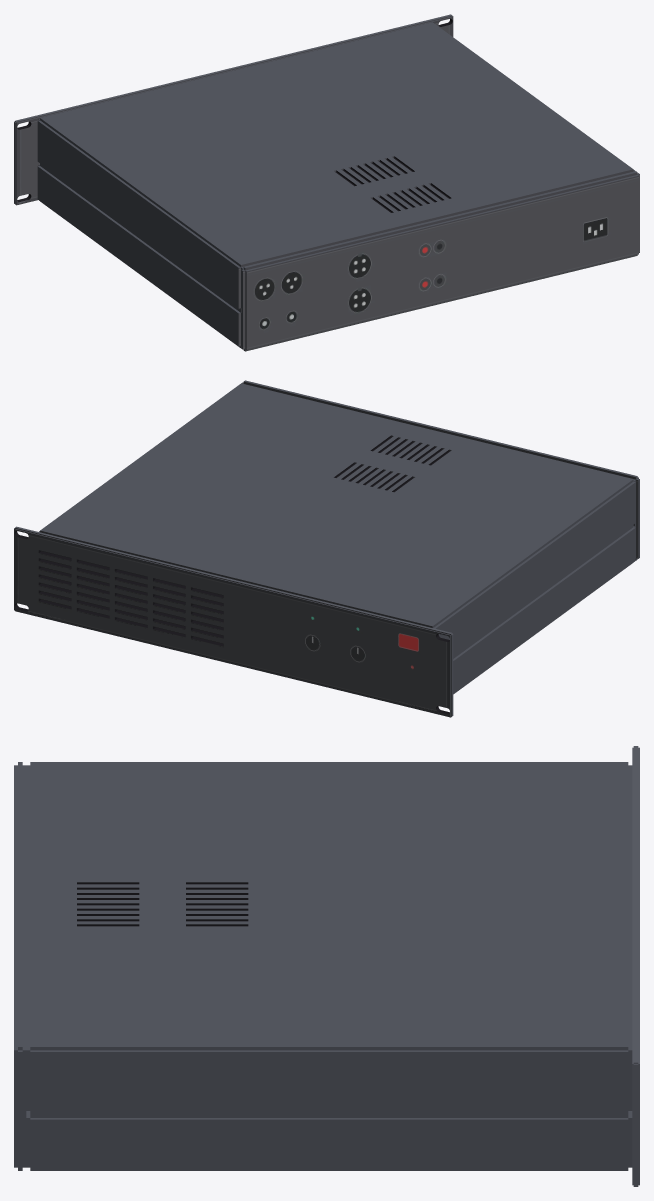
The model's file is behringer-europower-ep4000.glb.
The picture shows the model from 3 angles, top to bottom: view 1: azimuth 30°, elevation 25°; view 2: azimuth 150°, elevation 25°; view 3: azimuth 270°, elevation 25°; orthographic projection. The views are drawn at different scales.
Parts seen in each view (by area): view 1: behringer-europower-ep4000-body; view 2: behringer-europower-ep4000-body; view 3: behringer-europower-ep4000-body.
Boxes of the visible parts, x1,y1,x2,y2 form: behringer-europower-ep4000-body: (14,14,639,351); behringer-europower-ep4000-body: (14,380,639,717); behringer-europower-ep4000-body: (14,746,639,1186).
Size of the model in its own units: 0.483 by 0.088 by 0.402.
1 material, 1 textured.
